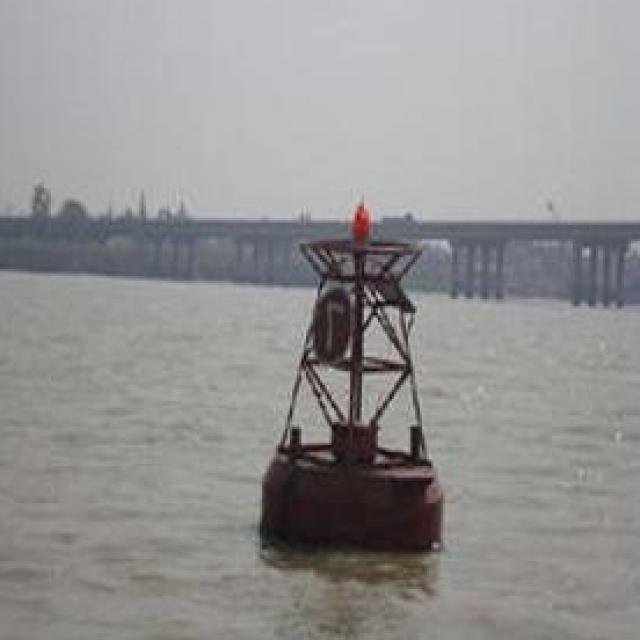buoy: (235, 201, 466, 553)
